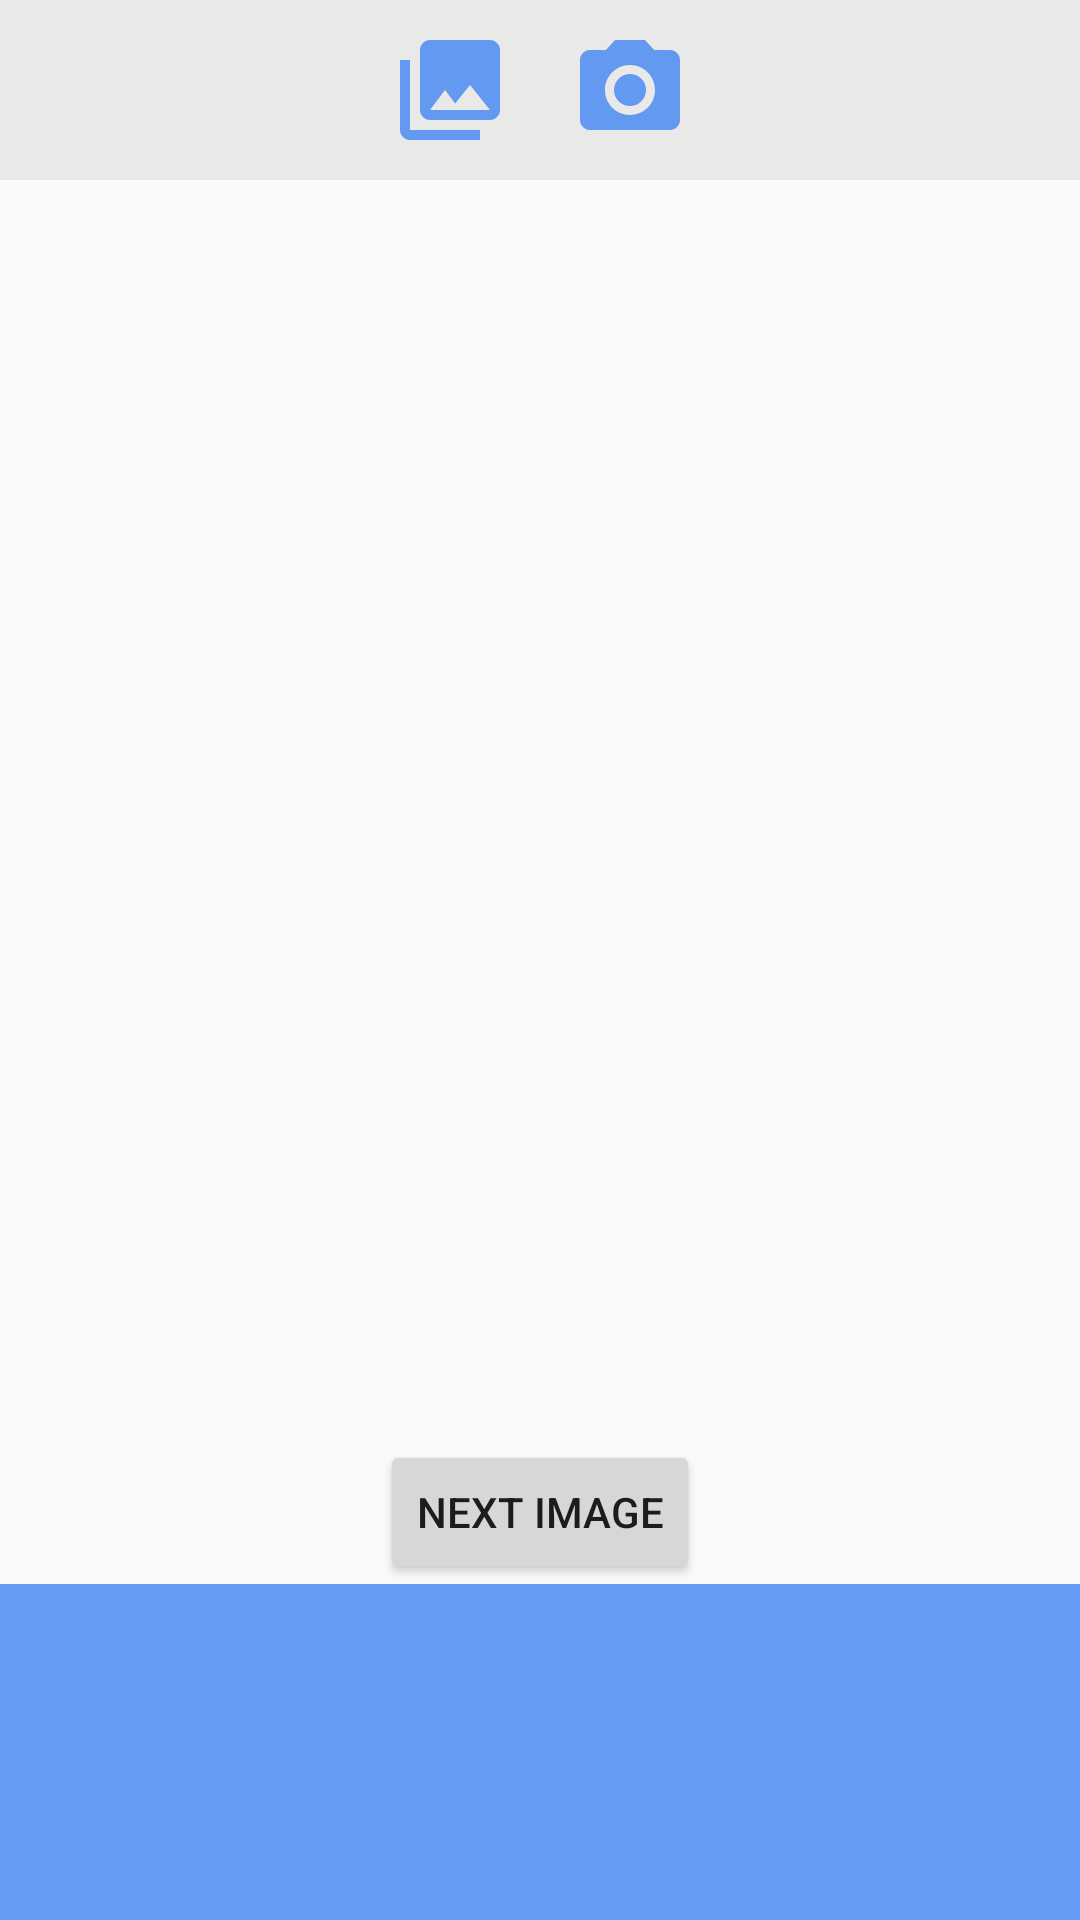

Locate icon controls on the screen. Image size 1080*1920, boxes as BBox(x1, y1, x2, y2).
photo camera: BBox(580, 40, 680, 130)
photo library: BBox(400, 40, 500, 140)
